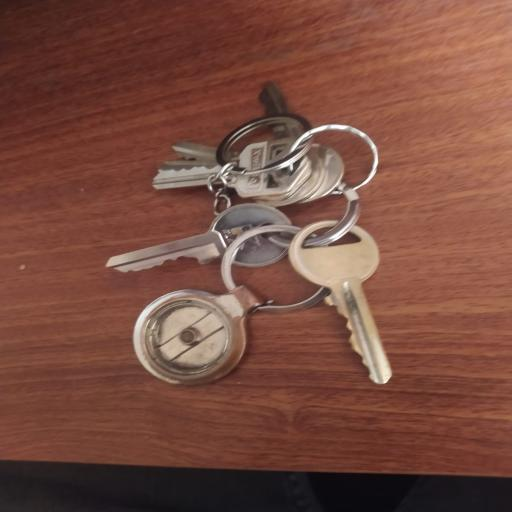Llaves: (101, 74, 408, 400)
